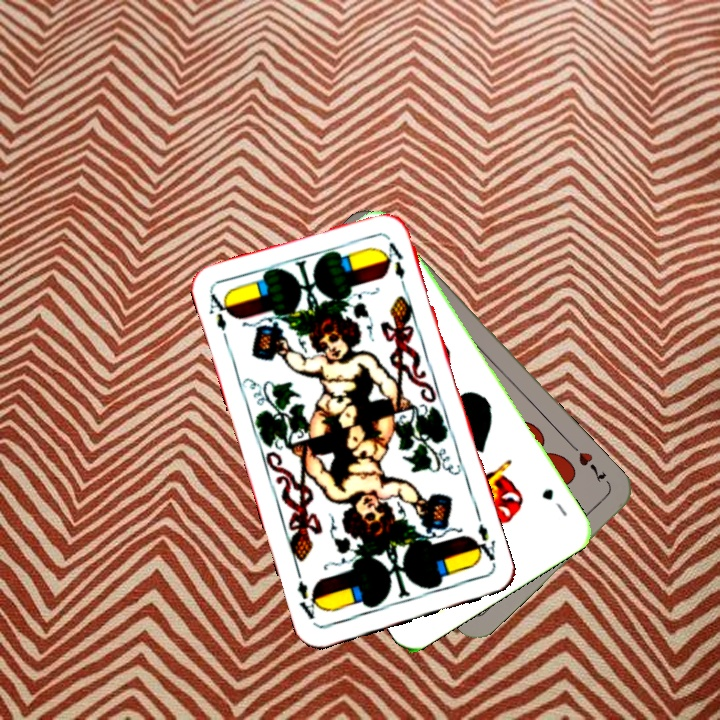EA: (204, 289, 234, 347), (468, 519, 498, 568)
GU: (538, 484, 570, 519)
H7: (574, 448, 609, 485)
